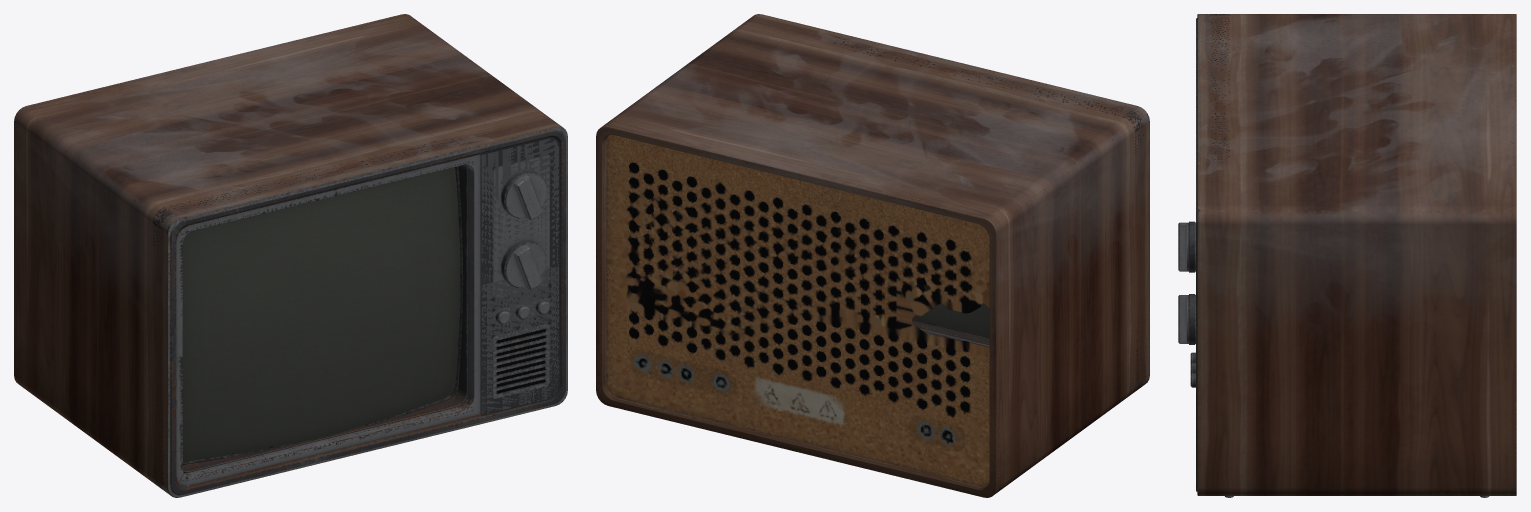
3 renders of one model, left to right at view 1: azimuth 30°, elevation 25°; view 2: azimuth 150°, elevation 25°; view 3: azimuth 270°, elevation 25°, orthographic. The views are drawn at different scales.
Visible parts, largest first — view 1: Slavic_Tv_Mesh.001; view 2: Slavic_Tv_Mesh.001; view 3: Slavic_Tv_Mesh.001.
Part boxes in pixels (x1,y1,x2,y2): Slavic_Tv_Mesh.001: (14,14,567,497); Slavic_Tv_Mesh.001: (596,14,1149,497); Slavic_Tv_Mesh.001: (1178,14,1516,497).
Bounding box in the file's own units: 72 × 49.44 × 50.87.
